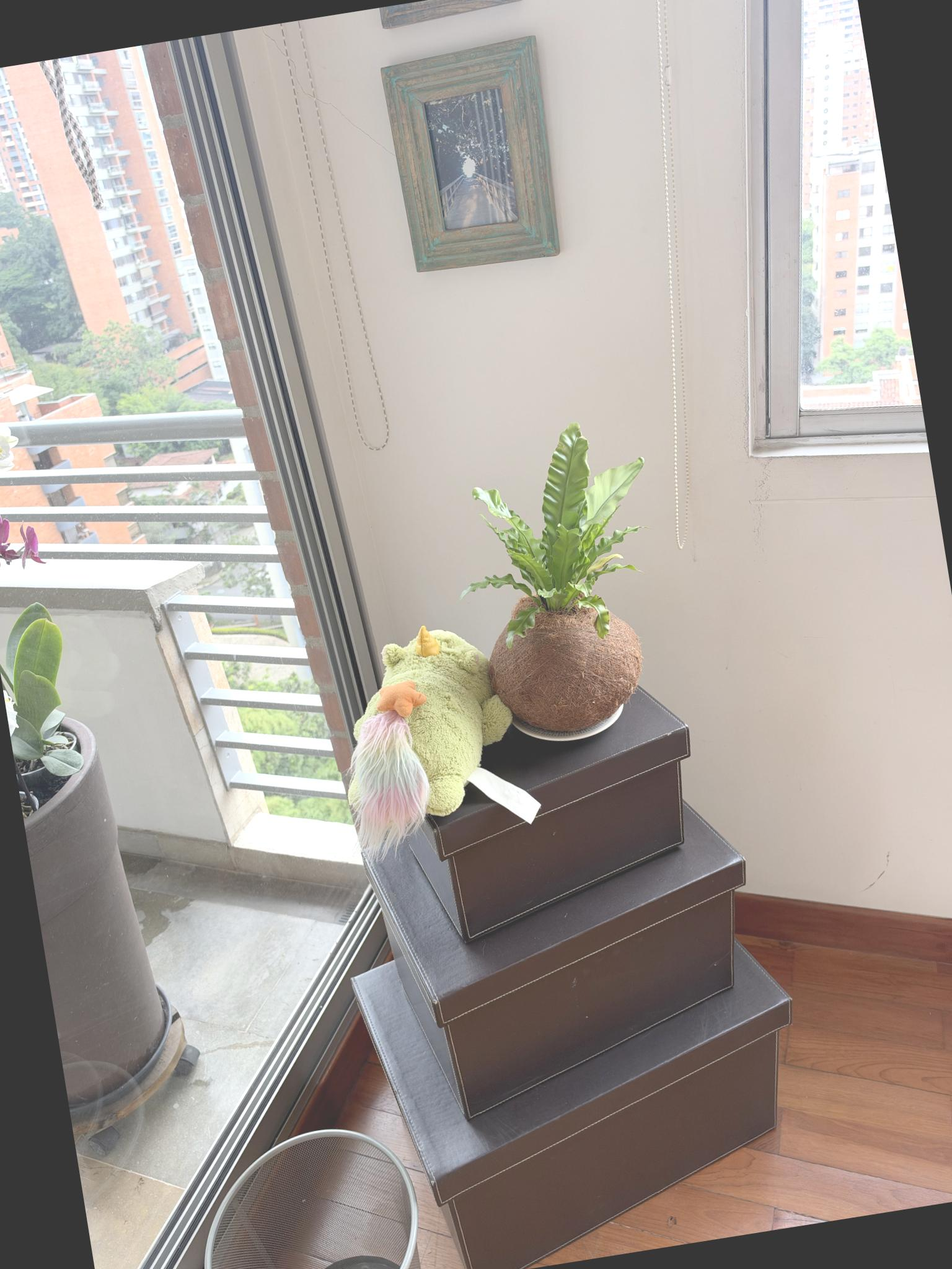peluche_martin: (316, 611, 533, 870)
